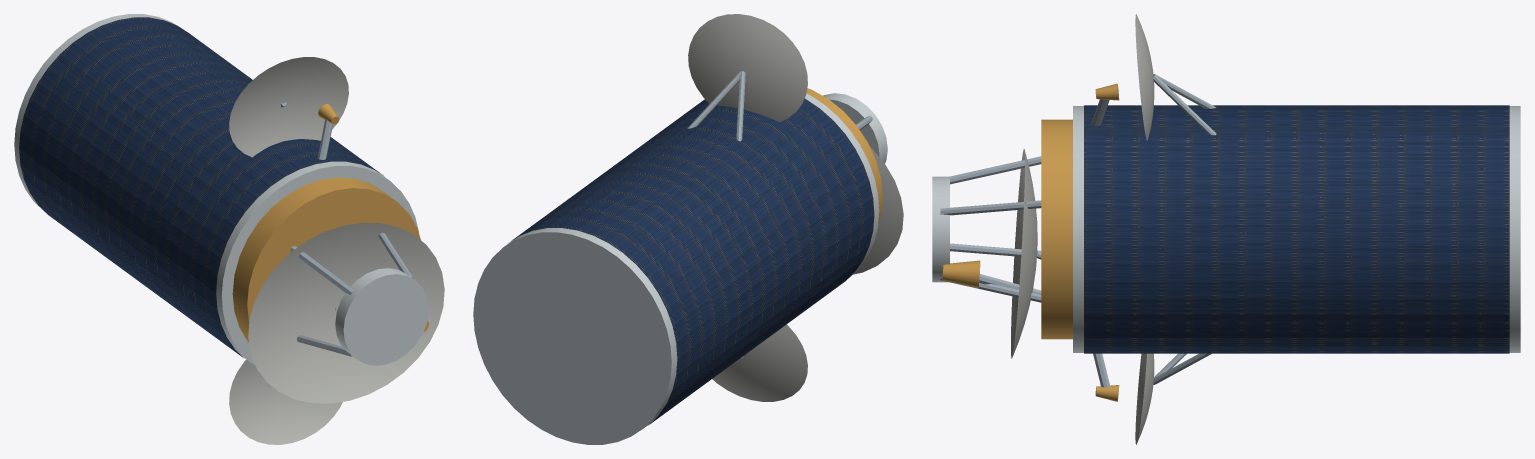
File: ref-hs-312-4881.glb
The picture shows the model from 3 angles, left to right: view 1: azimuth 30°, elevation 25°; view 2: azimuth 150°, elevation 25°; view 3: azimuth 270°, elevation 25°; orthographic projection. The views are drawn at different scales.
Parts seen in each view (by area): view 1: Body-mounted solar cells, Deck-mounted reflector, Communications reflector (×2), Despun equipment deck, Solar drum core, Antenna tower platform, Antenna tower leg; view 2: Body-mounted solar cells, Solar drum core, Communications reflector (×2), Deck-mounted reflector, Antenna tower platform, Despun equipment deck, Shell hinge strut (×2); view 3: Body-mounted solar cells, Despun equipment deck, Solar drum core, Deck-mounted reflector, Communications reflector (×2), Antenna tower leg (×3), Antenna tower platform, Feed horn, Shell hinge strut.
Boxes of the visible parts, box(x1,y1,x2,y2) form: Body-mounted solar cells: box(19, 17, 383, 357); Deck-mounted reflector: box(248, 222, 444, 403); Communications reflector (×2): box(229, 57, 348, 444); Despun equipment deck: box(232, 177, 420, 342); Solar drum core: box(14, 14, 419, 365); Antenna tower platform: box(335, 268, 428, 365); Antenna tower leg: box(290, 246, 353, 294); Body-mounted solar cells: box(510, 98, 874, 425); Solar drum core: box(473, 93, 879, 444); Communications reflector (×2): box(688, 14, 807, 401); Deck-mounted reflector: box(853, 147, 903, 274); Antenna tower platform: box(823, 93, 887, 163); Despun equipment deck: box(806, 88, 882, 223); Shell hinge strut (×2): box(687, 70, 745, 141); Body-mounted solar cells: box(1084, 105, 1509, 353); Despun equipment deck: box(1041, 119, 1072, 339); Solar drum core: box(1073, 106, 1520, 352); Deck-mounted reflector: box(1011, 149, 1037, 358); Communications reflector (×2): box(1135, 14, 1154, 444); Antenna tower leg (×3): box(940, 156, 1041, 256); Antenna tower platform: box(932, 176, 949, 282); Feed horn: box(942, 260, 980, 288); Shell hinge strut: box(1153, 75, 1216, 135).
Bounding box in the file's own units: 2.41 × 4.44 × 5.71.
Materials: 5 (1 with a texture image).
